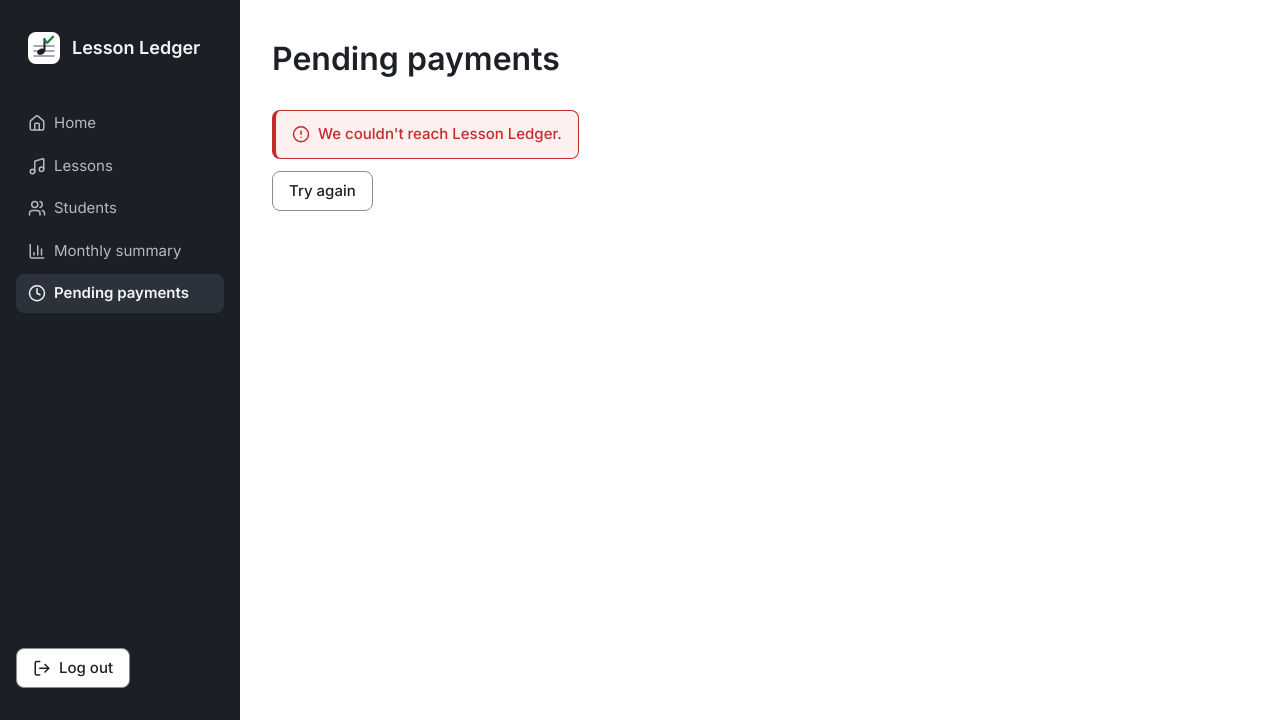
Test: AC-6 load failures › /pending shows the load error and Try again reloads (0)
This screenshot has width=1280, height=720.
Check: the text "We couldn't reach Lesson Ledger." is shown, box [272,110,579,159]
Click the button "Try again" at (322, 191), box [272,171,373,211]
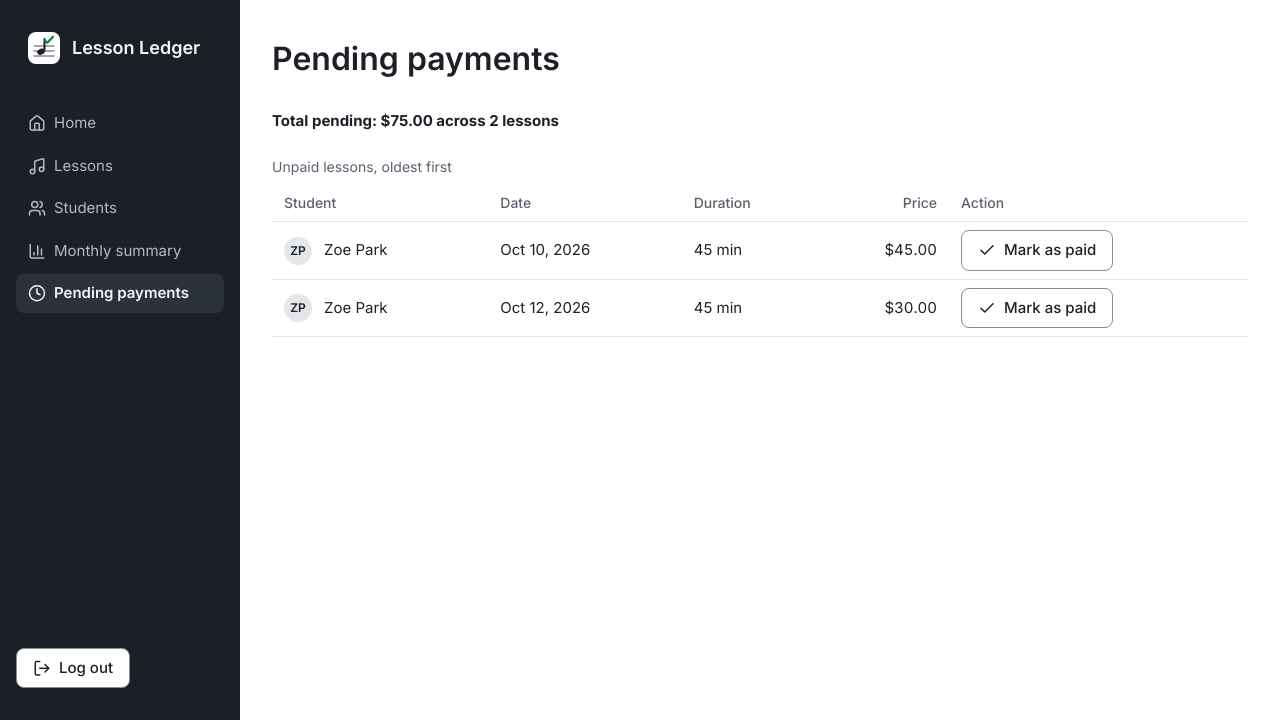
Check: the text "Total pending: $75.00 across 2 lessons" is shown, box [272,111,559,130]
